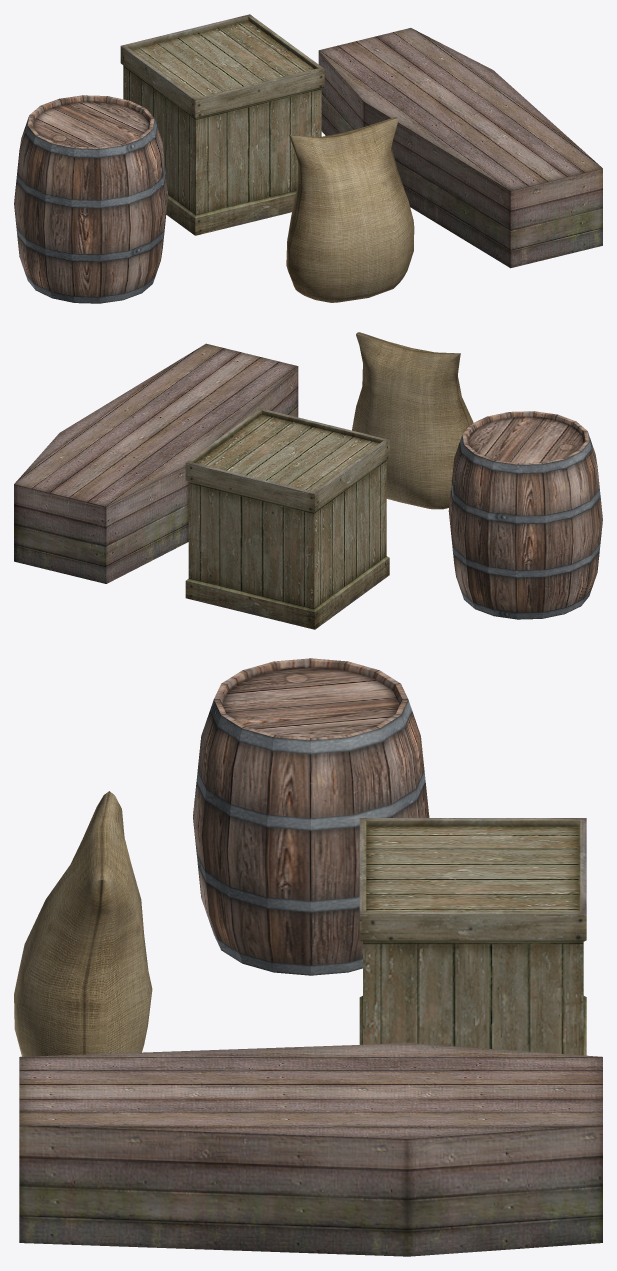
File: Barrel_Boxes_Grain_Sack.obj
3 views of the same model, one above another, from view 1: azimuth 30°, elevation 25°; view 2: azimuth 150°, elevation 25°; view 3: azimuth 270°, elevation 25° (orthographic). The views are drawn at different scales.
Parts seen in each view (by area): view 1: Mesh4 CoffinBox01_1 Model, Mesh3 SquareBox01_1 Model, Mesh2 Barrel1 Model, Mesh1 GrainSack01_1 Model; view 2: Mesh3 SquareBox01_1 Model, Mesh4 CoffinBox01_1 Model, Mesh2 Barrel1 Model, Mesh1 GrainSack01_1 Model; view 3: Mesh4 CoffinBox01_1 Model, Mesh2 Barrel1 Model, Mesh3 SquareBox01_1 Model, Mesh1 GrainSack01_1 Model.
Boxes of the visible parts, bbox=[...] form: Mesh4 CoffinBox01_1 Model: bbox=[318, 28, 602, 268]; Mesh3 SquareBox01_1 Model: bbox=[120, 14, 324, 235]; Mesh2 Barrel1 Model: bbox=[14, 95, 168, 303]; Mesh1 GrainSack01_1 Model: bbox=[286, 117, 414, 302]; Mesh3 SquareBox01_1 Model: bbox=[185, 408, 389, 629]; Mesh4 CoffinBox01_1 Model: bbox=[14, 343, 298, 583]; Mesh2 Barrel1 Model: bbox=[448, 411, 602, 619]; Mesh1 GrainSack01_1 Model: bbox=[352, 332, 473, 509]; Mesh4 CoffinBox01_1 Model: bbox=[19, 1043, 602, 1256]; Mesh2 Barrel1 Model: bbox=[193, 658, 429, 975]; Mesh3 SquareBox01_1 Model: bbox=[359, 818, 586, 1055]; Mesh1 GrainSack01_1 Model: bbox=[14, 791, 152, 1056].
Size of the model in its own units: 2.71 by 0.8233 by 1.82.
Materials: 4 (4 with a texture image).
